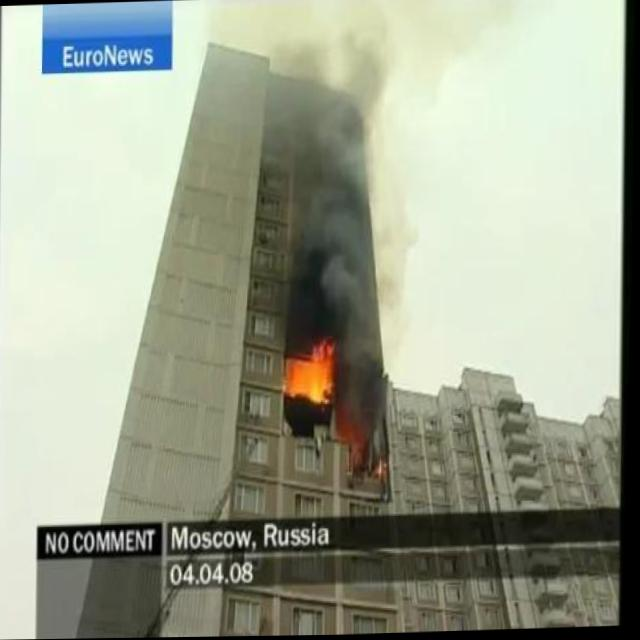fire: (283, 342, 341, 417)
